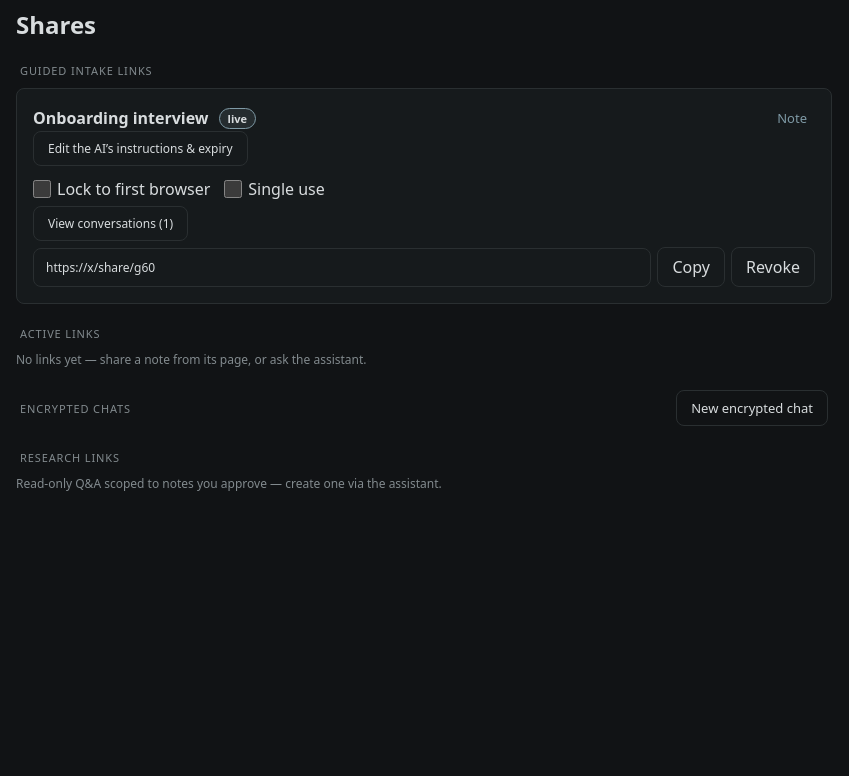
Scenario: SharesPage — guided per-link sessions › loads a session transcript when a row is viewed
Expected: the text "Onboarding interview" is shown, [33,107,209,129]
Click the button "View conversations (1)" at (111, 224), box [33,206,188,241]
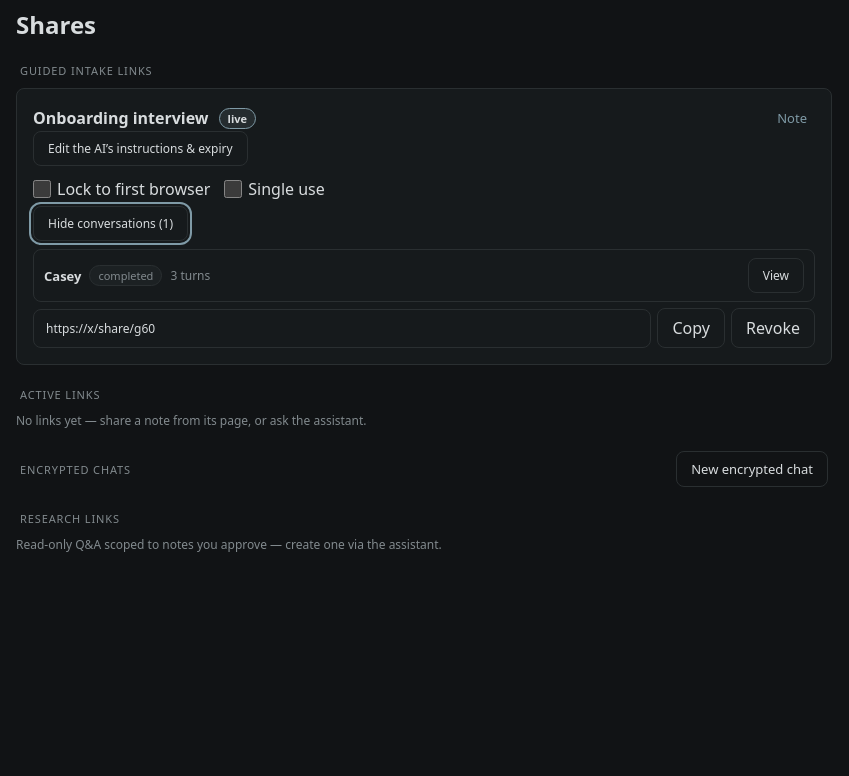
Result: the text "Casey" is shown at [44,266,81,284]
Click the button "View" at (776, 276), box [748,258,804,293]
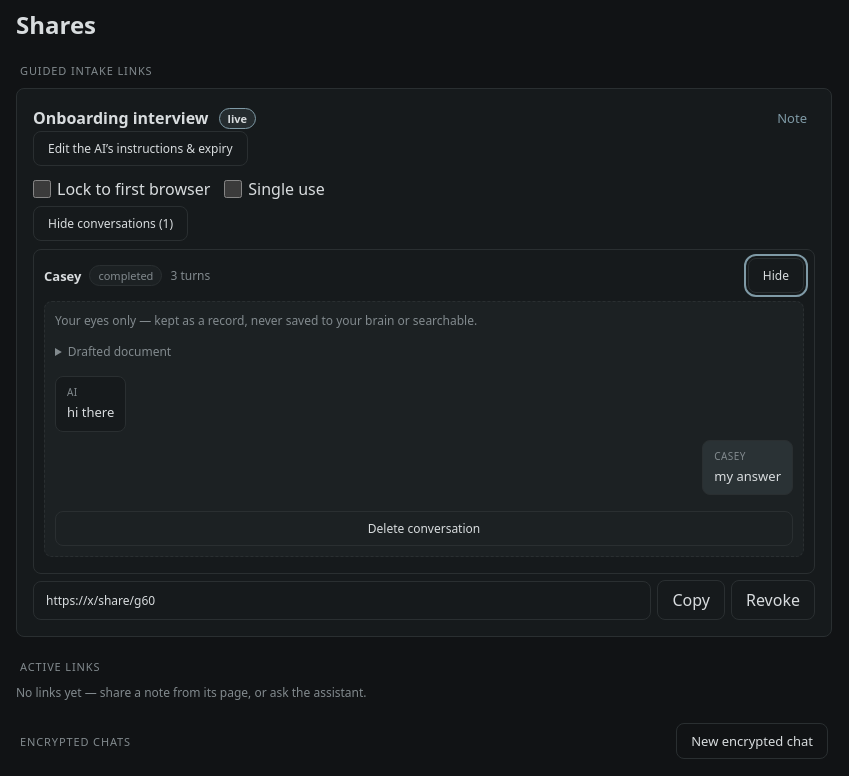
Result: the text "my answer" is shown at [714,466,781,484]
